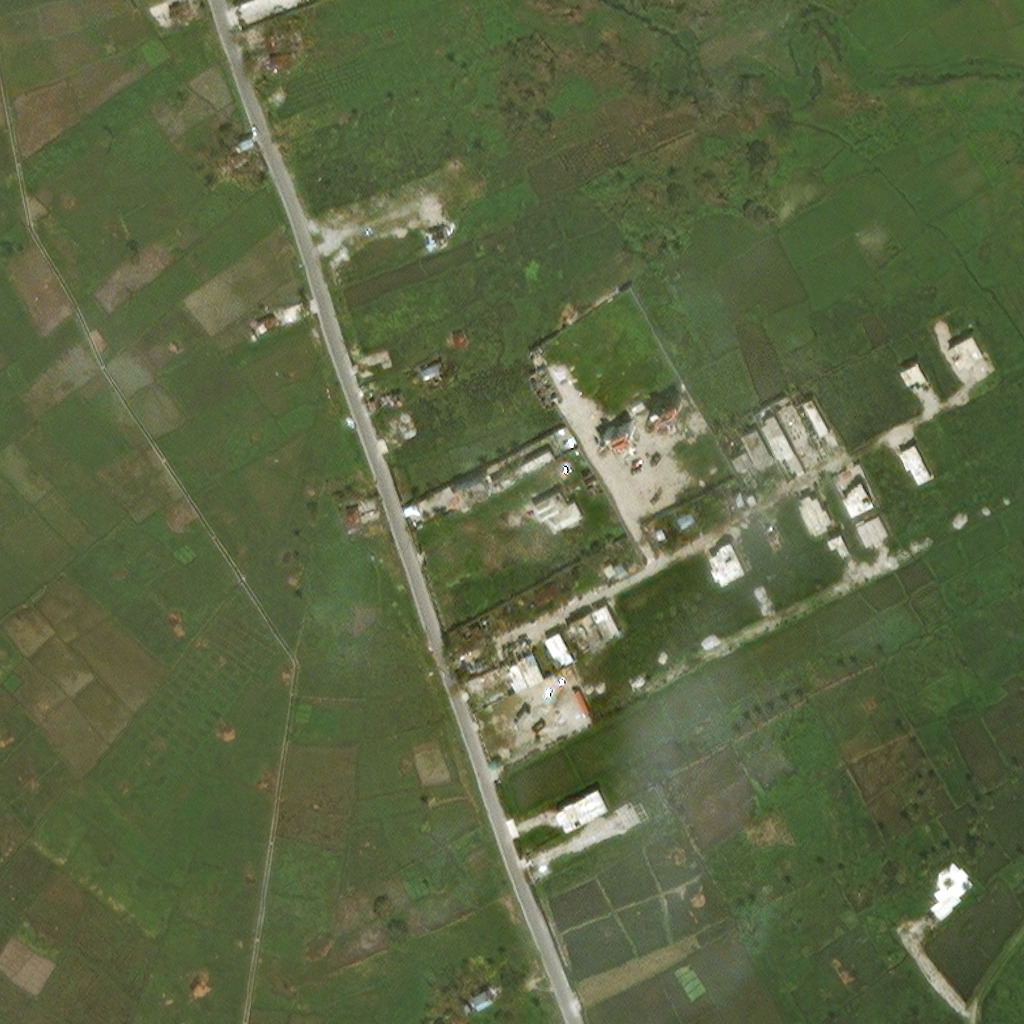destroyed: (466, 674, 494, 706), (167, 1, 197, 28), (480, 668, 504, 693), (342, 509, 360, 534), (460, 641, 479, 656), (470, 626, 483, 643)
major_damage: (565, 610, 609, 651), (264, 40, 274, 54)
minor_damage: (485, 449, 555, 492), (738, 433, 773, 475), (453, 474, 494, 508), (531, 491, 567, 522), (468, 994, 493, 1014), (729, 455, 752, 475), (254, 317, 277, 334), (227, 155, 247, 174)
no_damage: (544, 502, 583, 534), (798, 497, 829, 535), (496, 658, 526, 687), (534, 583, 562, 607), (418, 362, 446, 383), (596, 614, 616, 640), (473, 654, 493, 673), (609, 560, 628, 579), (725, 495, 742, 513), (267, 57, 292, 68), (450, 332, 464, 351), (651, 529, 666, 545), (606, 572, 621, 585)
